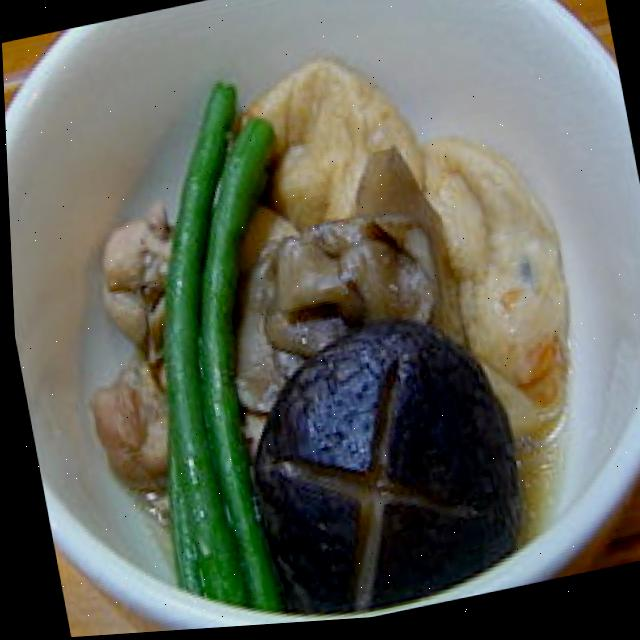熟制海鲜: (28, 5, 578, 639)
